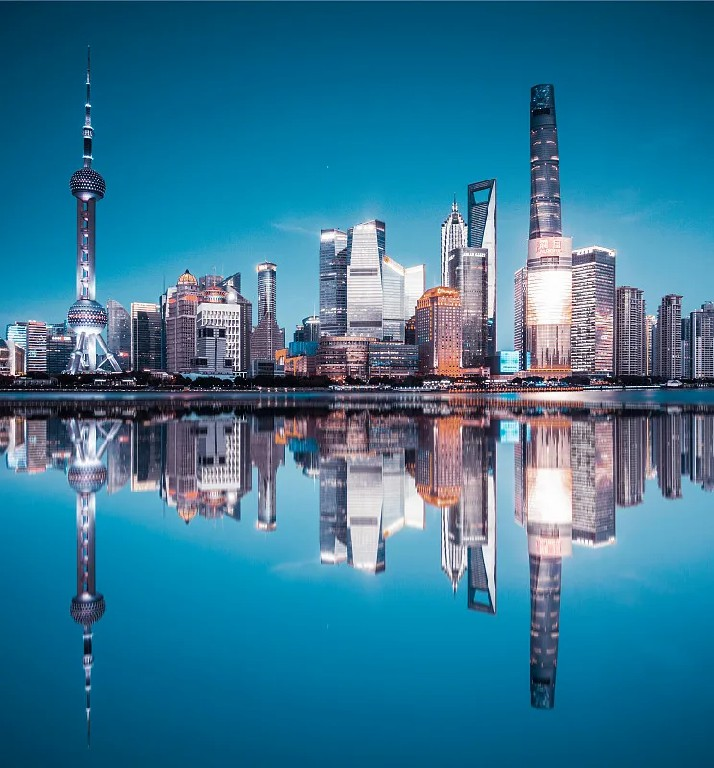Oriental: (68, 44, 121, 372)
